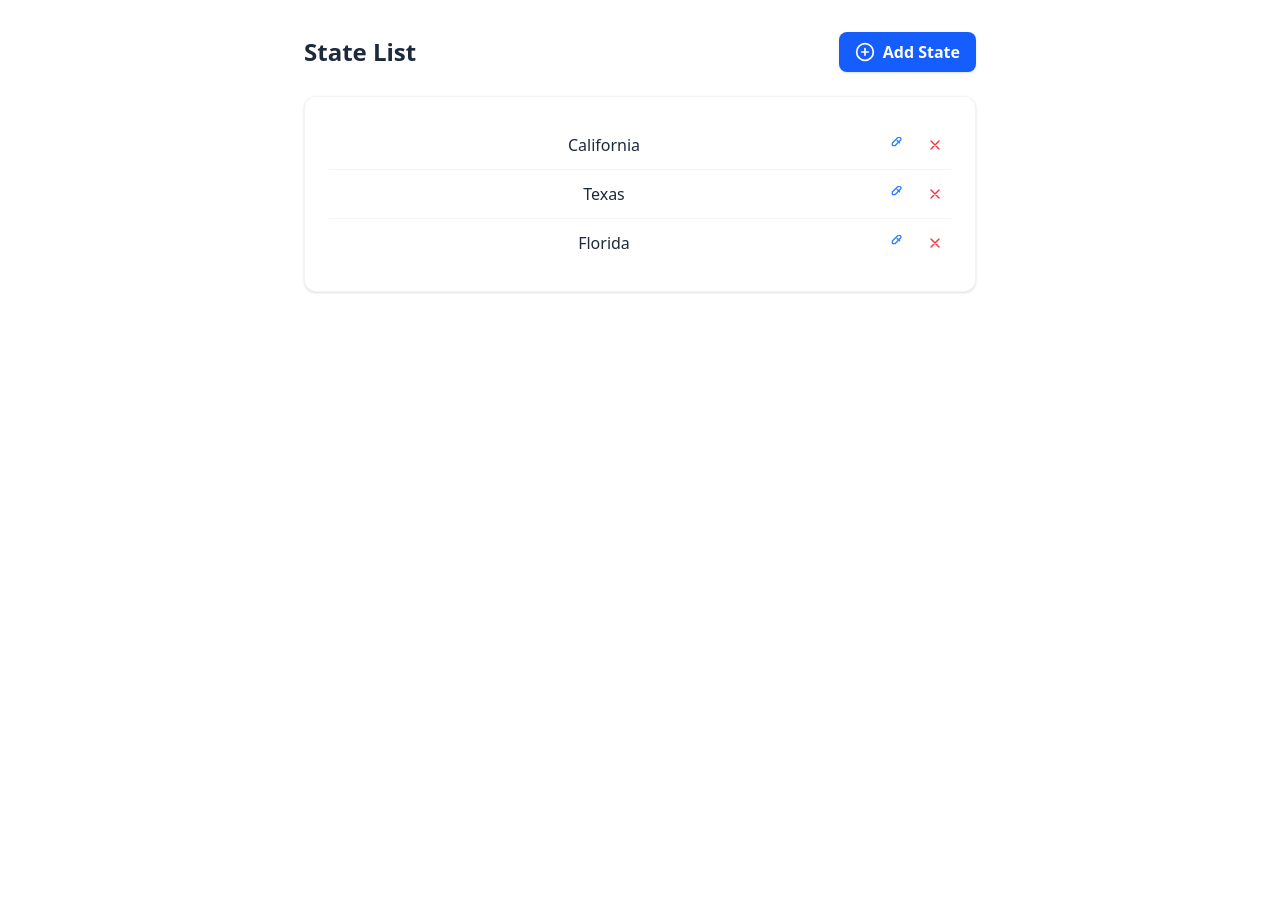
Test case: StateSelector › should close add modal when cancel is clicked
The image size is (1280, 900).
Open modal
Click the button "Add State".
click(907, 52)  # box [839,32,976,72]
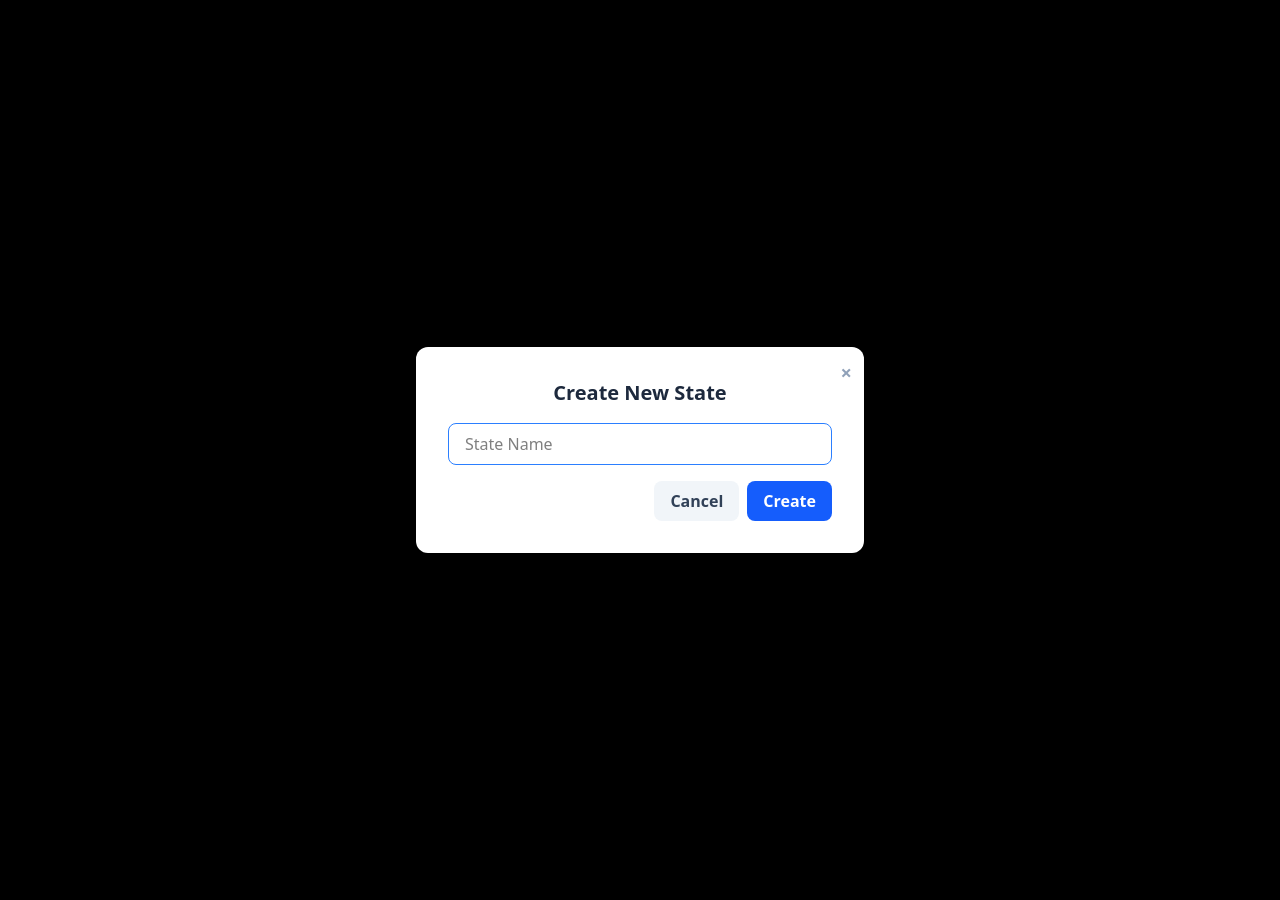
Close modal
Click the button "Cancel".
click(697, 501)  # box [654,481,739,521]
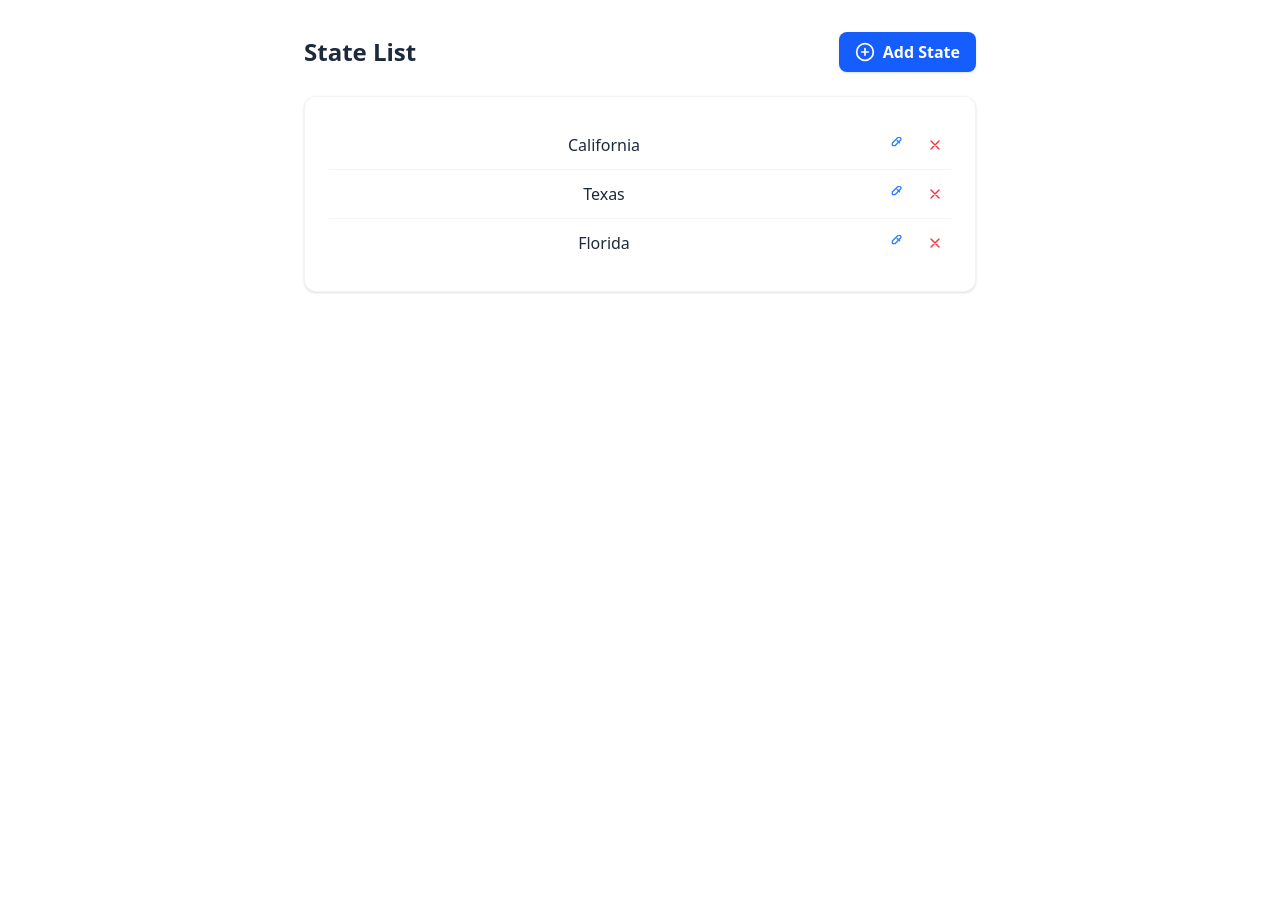
Expected: the heading "Create New State" is gone
